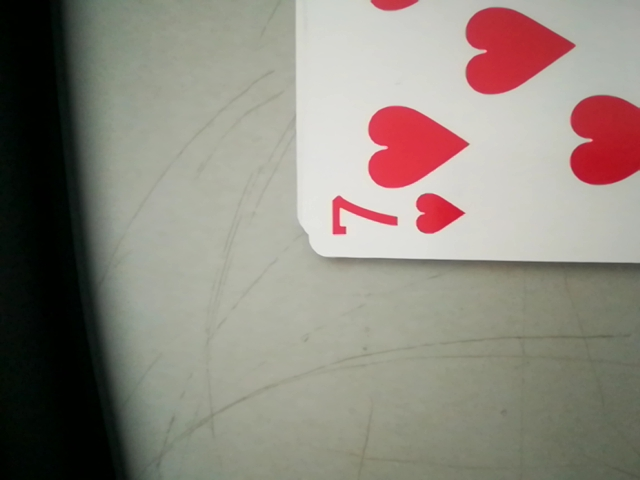hx 7: (320, 189, 472, 255)
